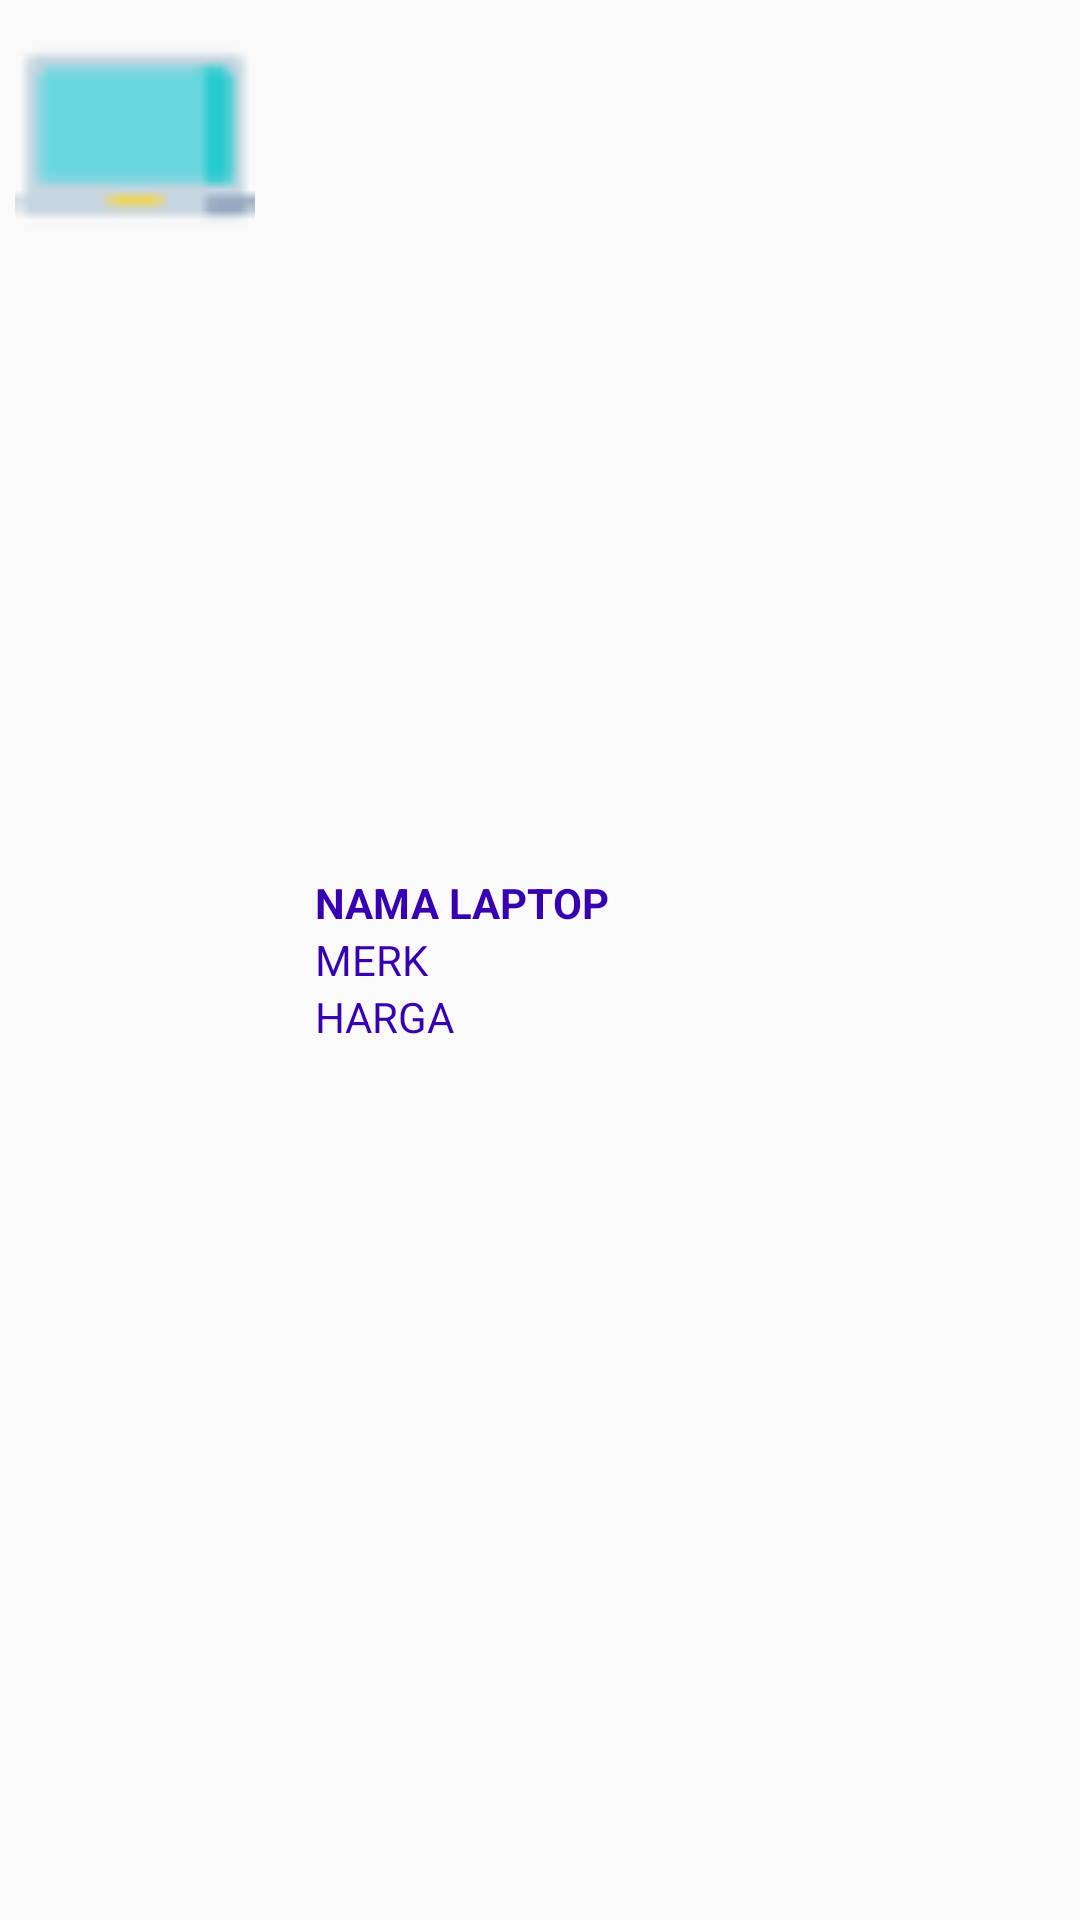

Screen size 1080w x 1920h. Icon name, then its box in pixels as detection(x1, y1, x2, y2):
laptop: detection(15, 54, 255, 219)
